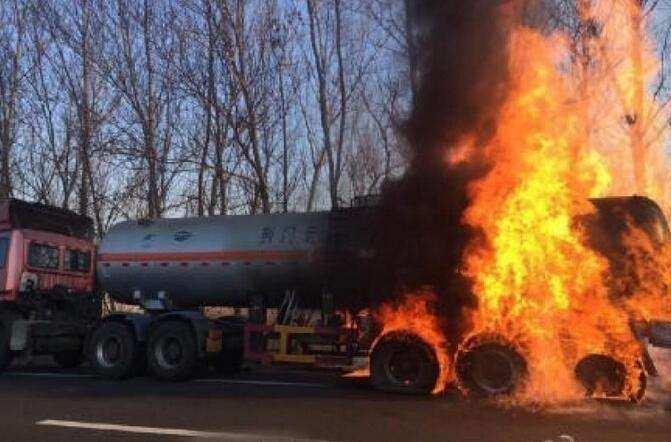fire: (354, 7, 666, 408)
